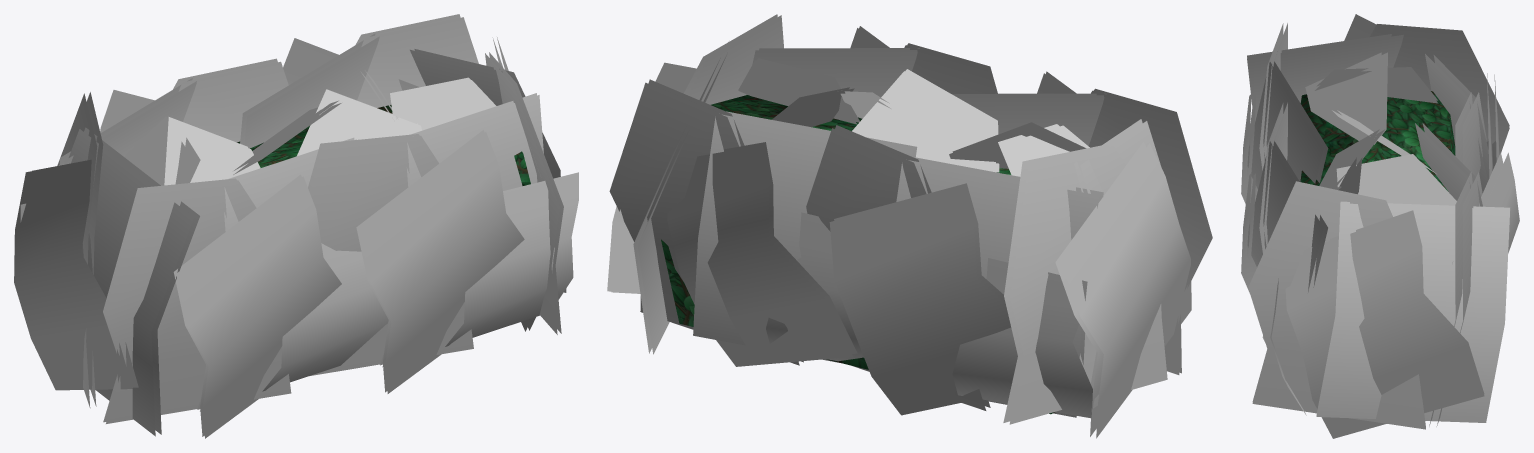
The model's file is bush_03.fbx.
3 renders of one model, left to right at view 1: azimuth 30°, elevation 25°; view 2: azimuth 150°, elevation 25°; view 3: azimuth 270°, elevation 25°, orthographic. The views are drawn at different scales.
Visible parts, largest first — view 1: bush_leafs_03, bush_main_03; view 2: bush_leafs_03, bush_main_03; view 3: bush_leafs_03, bush_main_03.
Boxes of the visible parts, x1=… form: bush_leafs_03: x1=14, y1=14, x2=578, y2=438; bush_main_03: x1=237, y1=105, x2=530, y2=185; bush_leafs_03: x1=607, y1=14, x2=1212, y2=438; bush_main_03: x1=661, y1=95, x2=1054, y2=414; bush_leafs_03: x1=1241, y1=14, x2=1519, y2=438; bush_main_03: x1=1300, y1=91, x2=1455, y2=191.
Size of the model in its own units: 5 by 2.72 by 2.76.
